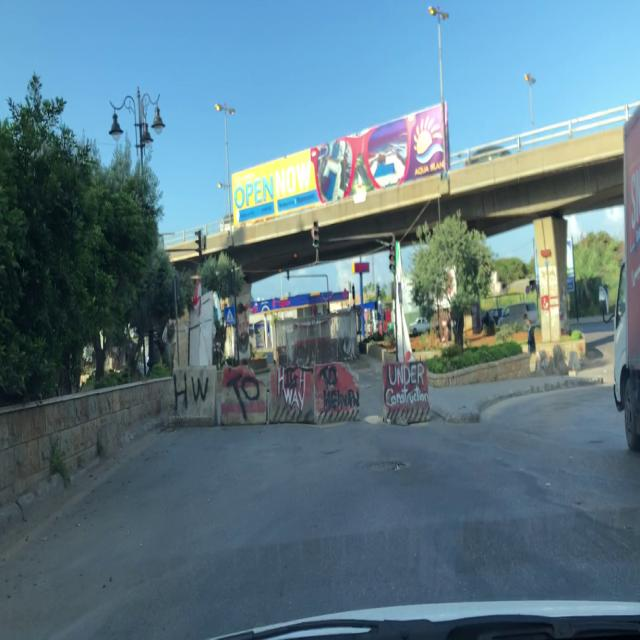Pothole: (363, 458, 411, 474)
